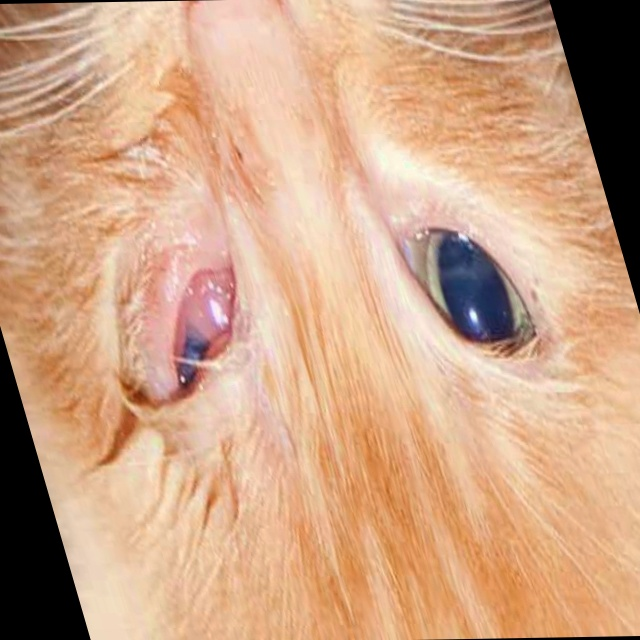eye_infection: (384, 221, 549, 357), (141, 262, 259, 393)
